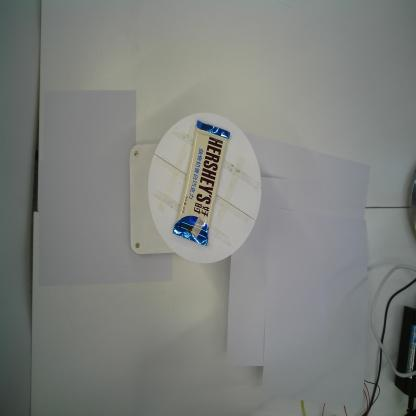Chocolate: (172, 118, 230, 249)
